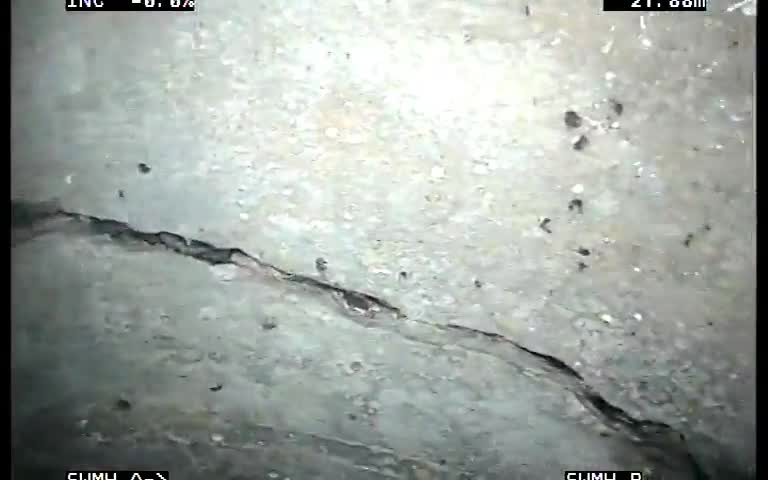Crack: (24, 170, 627, 435)
